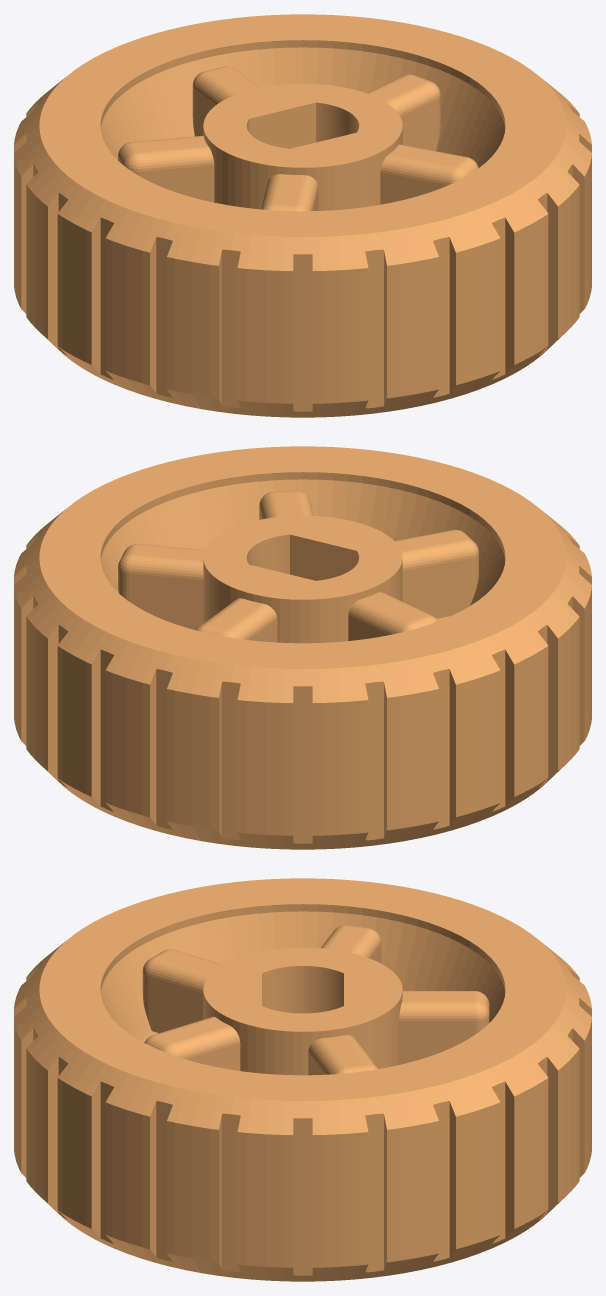
The model's file is kit-wheel-med.glb.
3 views of the same model, one above another, from view 1: azimuth 30°, elevation 25°; view 2: azimuth 150°, elevation 25°; view 3: azimuth 270°, elevation 25° (orthographic).
Visible parts, largest first — view 1: kit-wheel-med; view 2: kit-wheel-med; view 3: kit-wheel-med.
Boxes of the visible parts, x1,y1,x2,y2 form: kit-wheel-med: (14,14,591,417); kit-wheel-med: (14,446,591,849); kit-wheel-med: (14,878,591,1281).
Size of the model in its own units: 0.036 by 0.0123 by 0.036.
